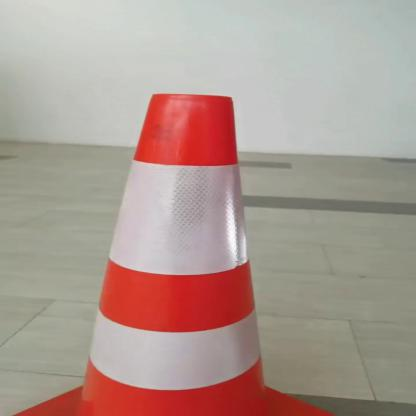cone: (0, 91, 343, 416)
